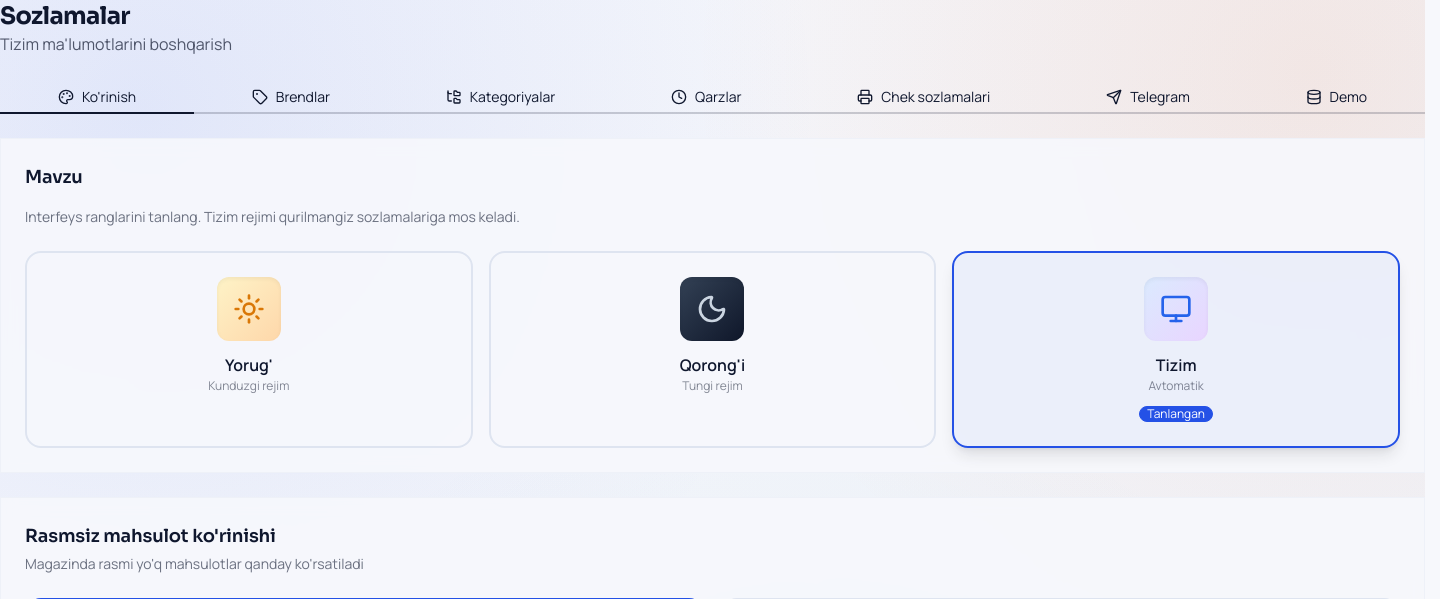
Scenario: SettingsPage › demo o'chirishni tasdiqlaydi va cleanup endpointini chaqiradi
Click the button "Demo". click: click(1336, 98)
box: [1248,82,1425,114]
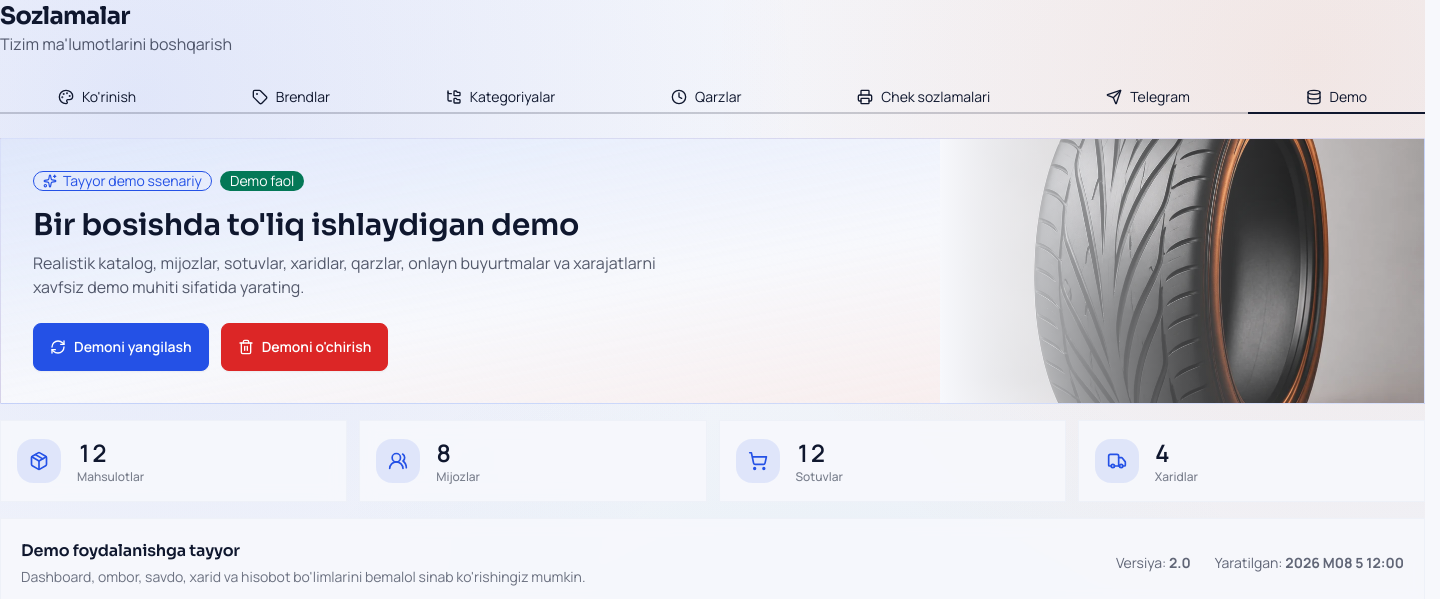
Click the button "Demoni o'chirish". click: click(304, 347)
box: [221,323,388,371]
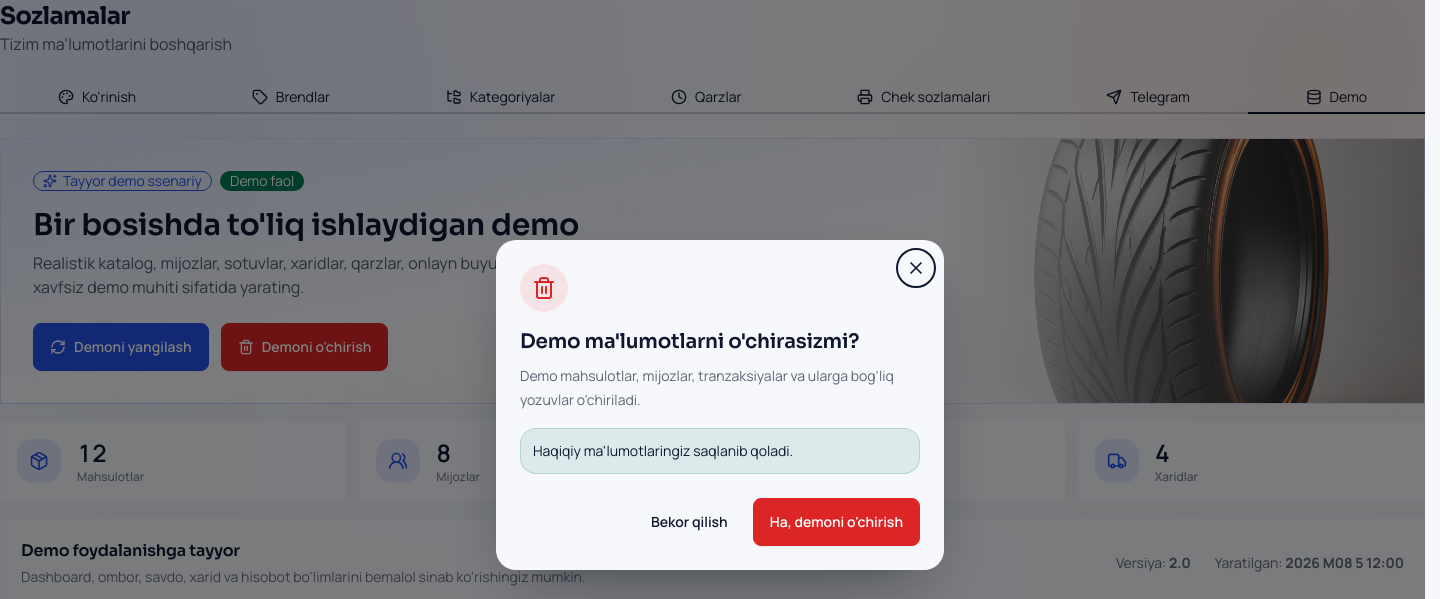
Click the button "Ha, demoni o'chirish". click: click(836, 522)
box: [753,498,920,546]
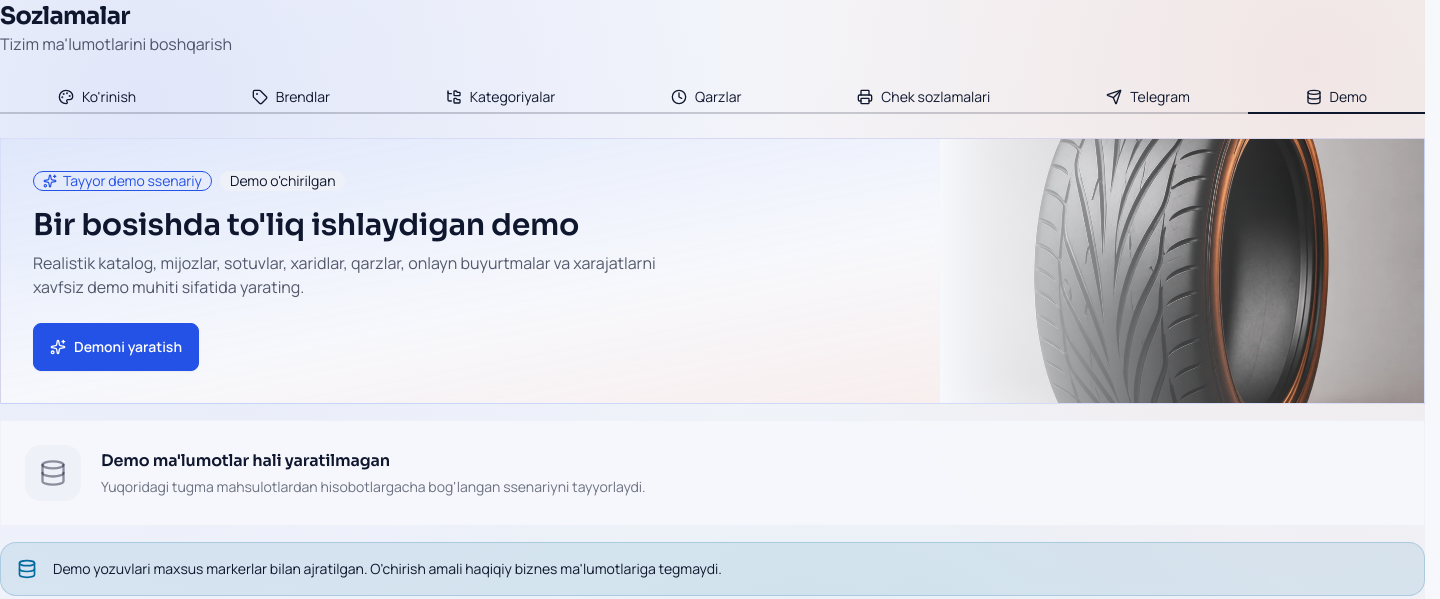
Expected: the heading "Demo ma'lumotlar hali yaratilmagan" is shown, [101,450,390,471]
